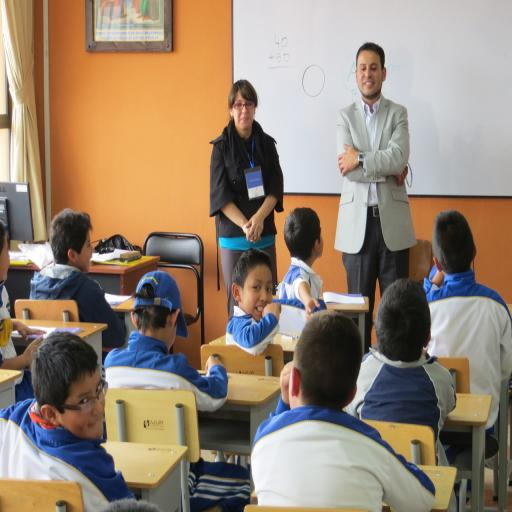Person: (218, 257, 482, 488), (315, 72, 455, 302), (5, 280, 153, 473), (102, 241, 242, 424), (390, 202, 512, 410), (332, 244, 486, 406), (181, 96, 297, 282), (10, 185, 130, 330), (206, 225, 302, 357)
no_goggle: (240, 264, 286, 296), (59, 347, 117, 368), (343, 108, 397, 124)
no_helmet: (21, 290, 132, 397), (275, 278, 368, 375), (354, 260, 448, 350), (224, 240, 294, 309), (44, 197, 102, 277), (126, 263, 196, 329), (430, 215, 484, 291), (349, 90, 403, 144), (220, 115, 268, 169)
none: (249, 350, 442, 466), (4, 370, 142, 456), (417, 270, 512, 393), (102, 316, 228, 388), (335, 142, 421, 241), (210, 156, 286, 246), (355, 326, 460, 385), (228, 291, 296, 345), (28, 264, 120, 302)
